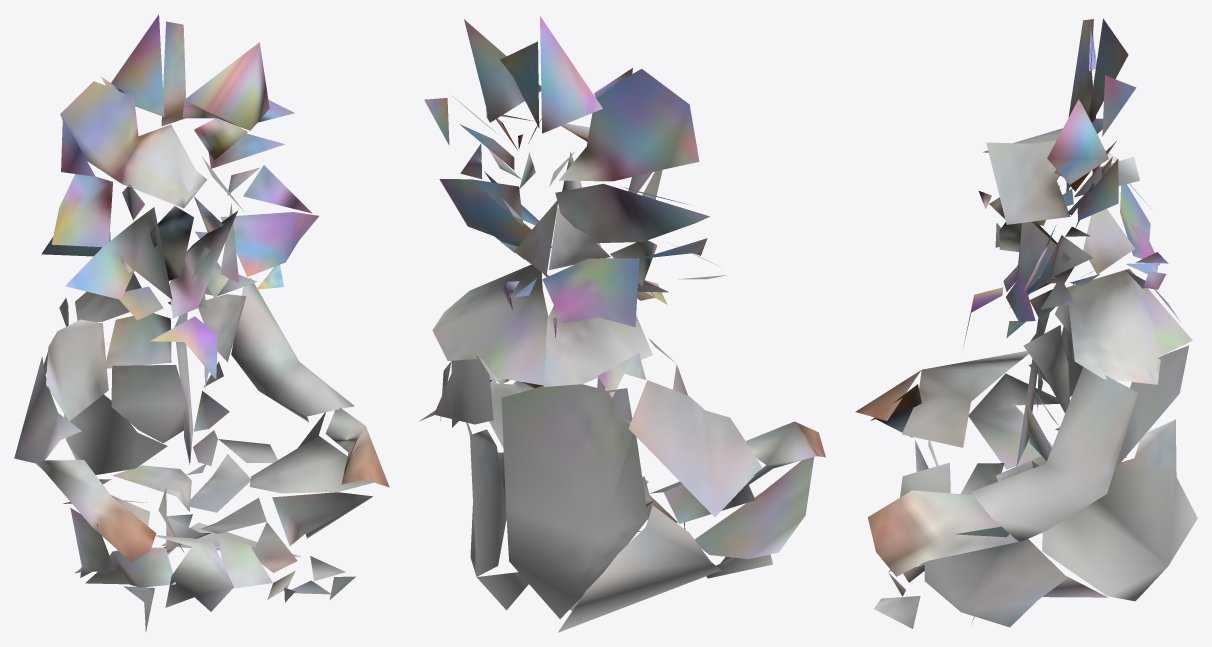
File: seat_robber_far.glb
3 views of the same model, side by side, from view 1: azimuth 30°, elevation 25°; view 2: azimuth 150°, elevation 25°; view 3: azimuth 270°, elevation 25° (orthographic). The views are drawn at different scales.
Parts seen in each view (by area): view 1: tripo_node_d2d8d7c2-effa-49cc-8b4e-33de79e9e200; view 2: tripo_node_d2d8d7c2-effa-49cc-8b4e-33de79e9e200; view 3: tripo_node_d2d8d7c2-effa-49cc-8b4e-33de79e9e200.
Part boxes in pixels (x1,y1,x2,y2): tripo_node_d2d8d7c2-effa-49cc-8b4e-33de79e9e200: (14,14,389,631); tripo_node_d2d8d7c2-effa-49cc-8b4e-33de79e9e200: (419,16,825,632); tripo_node_d2d8d7c2-effa-49cc-8b4e-33de79e9e200: (855,18,1197,628).
Size of the model in its own units: 0.5841 by 0.9838 by 0.5185.
Materials: 1 (1 with a texture image).
